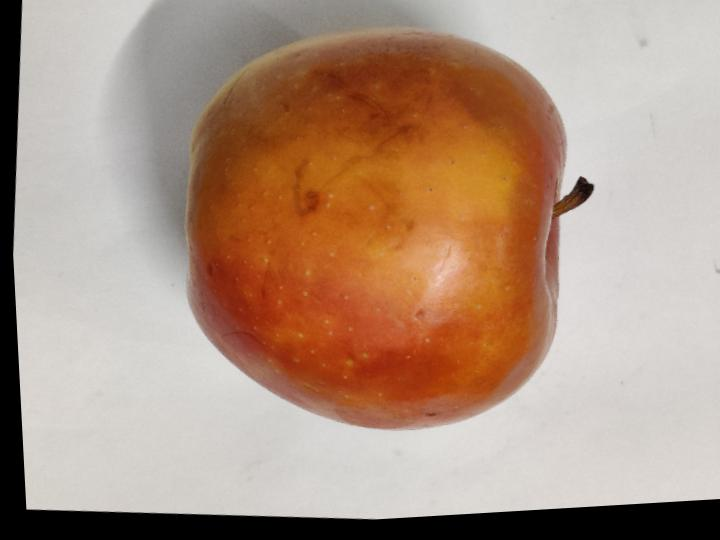apple: (186, 31, 593, 428)
surface_damage: (313, 70, 429, 193), (292, 160, 320, 216)
